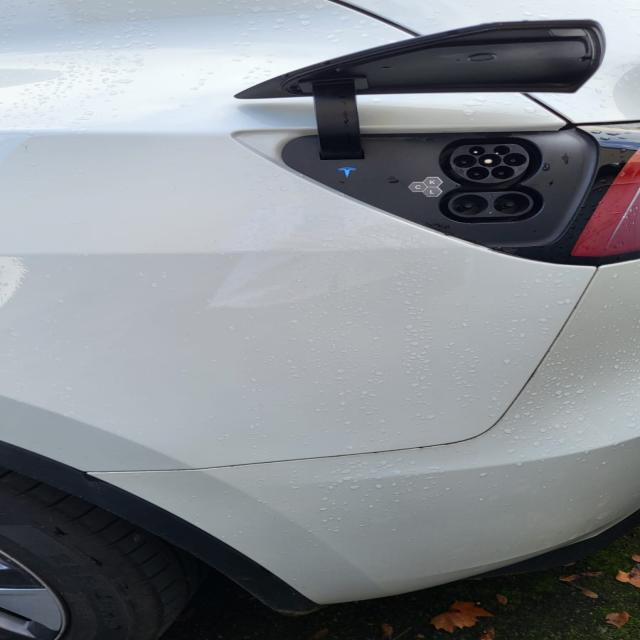inlet: (450, 144, 529, 183)
inlet-above-left: (469, 146, 485, 156)
inlet-above-right: (494, 146, 510, 155)
inlet-below-left: (466, 167, 489, 180)
inlet-below-right: (491, 166, 514, 179)
inlet-circle: (478, 154, 501, 167)
inlet-circle-left: (454, 155, 477, 168)
inlet-circle-right: (503, 153, 526, 166)
inlet-minus: (494, 193, 530, 214)
inlet-plus: (451, 195, 488, 215)
